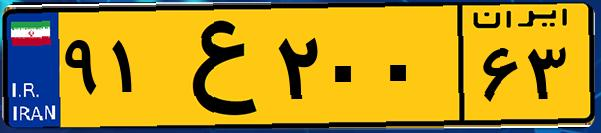0: (385, 28, 445, 110), (330, 28, 385, 110)
1: (110, 28, 158, 98)
2: (270, 28, 330, 110)
3: (525, 38, 570, 115)
6: (475, 38, 525, 113)
9: (57, 26, 110, 100)
ع: (158, 12, 270, 120)
